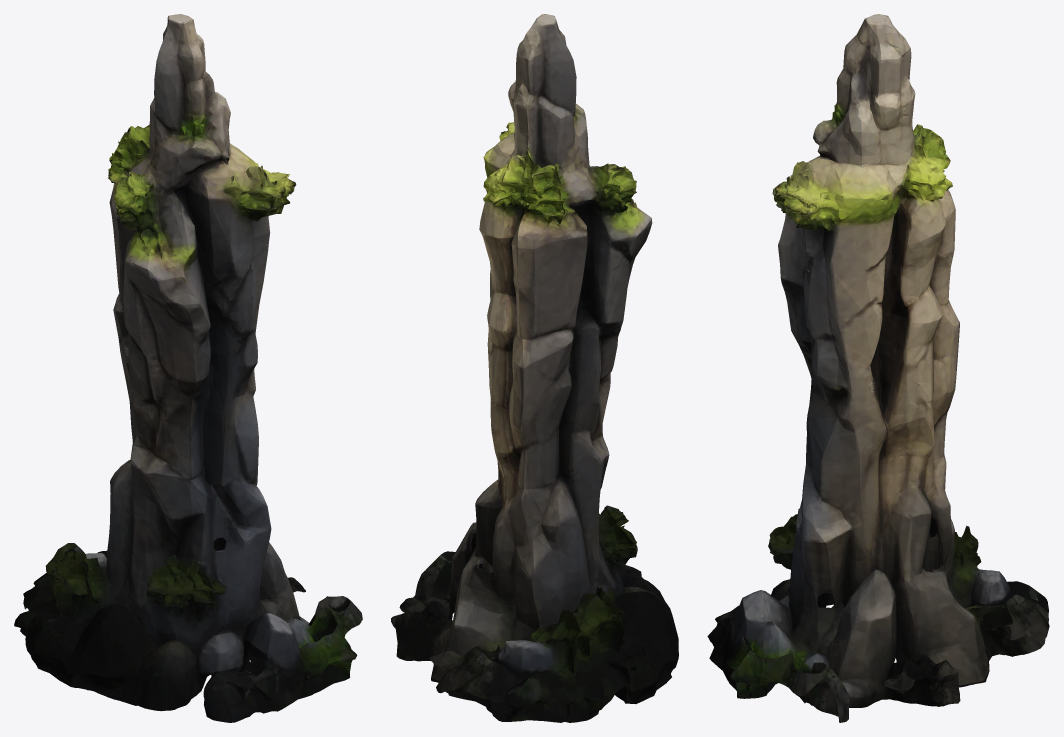
File: tower.glb
The picture shows the model from 3 angles, left to right: view 1: azimuth 30°, elevation 25°; view 2: azimuth 150°, elevation 25°; view 3: azimuth 270°, elevation 25°; orthographic projection.
Parts seen in each view (by area): view 1: world; view 2: world; view 3: world.
Boxes of the visible parts, left/top/right/bottom form: world: left=14, top=14, right=362, bottom=722; world: left=391, top=14, right=678, bottom=722; world: left=707, top=14, right=1049, bottom=722.
Bounding box in the file's own units: 0.4597 × 1 × 0.4896.
Materials: 1 (1 with a texture image).
